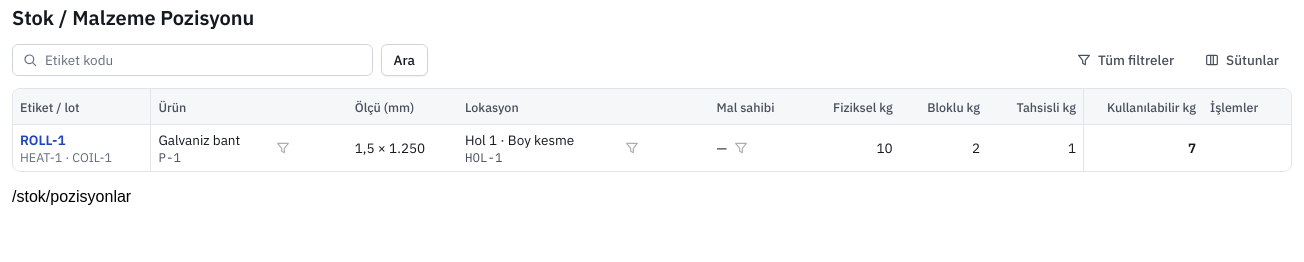
Test case: ST-01 filters — only what #597 supports, from the URL › filters by another group company’s exact id — never by the company on screen
expect the link "ROLL-1" is shown: met, box x1=20 y1=131 x2=66 y2=149
Click the button named "ROLL-1: bu mal sahibine göre filtrele": (741, 148) x1=729 y1=136 x2=753 y2=160
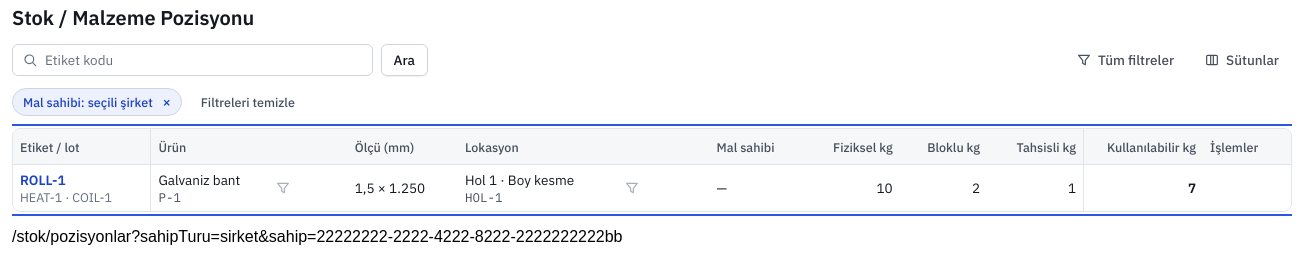
expect the text "Mal sahibi: seçili şirket" is shown: met, box x1=23 y1=94 x2=153 y2=110
